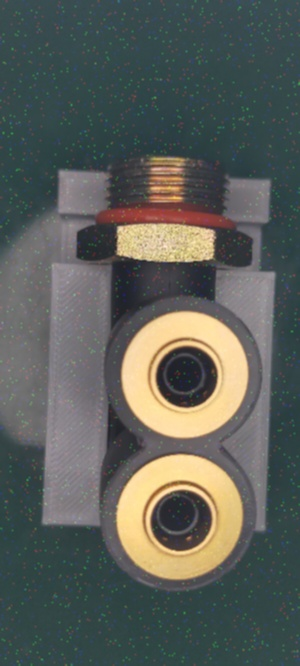joint line: (163, 276, 177, 298)
